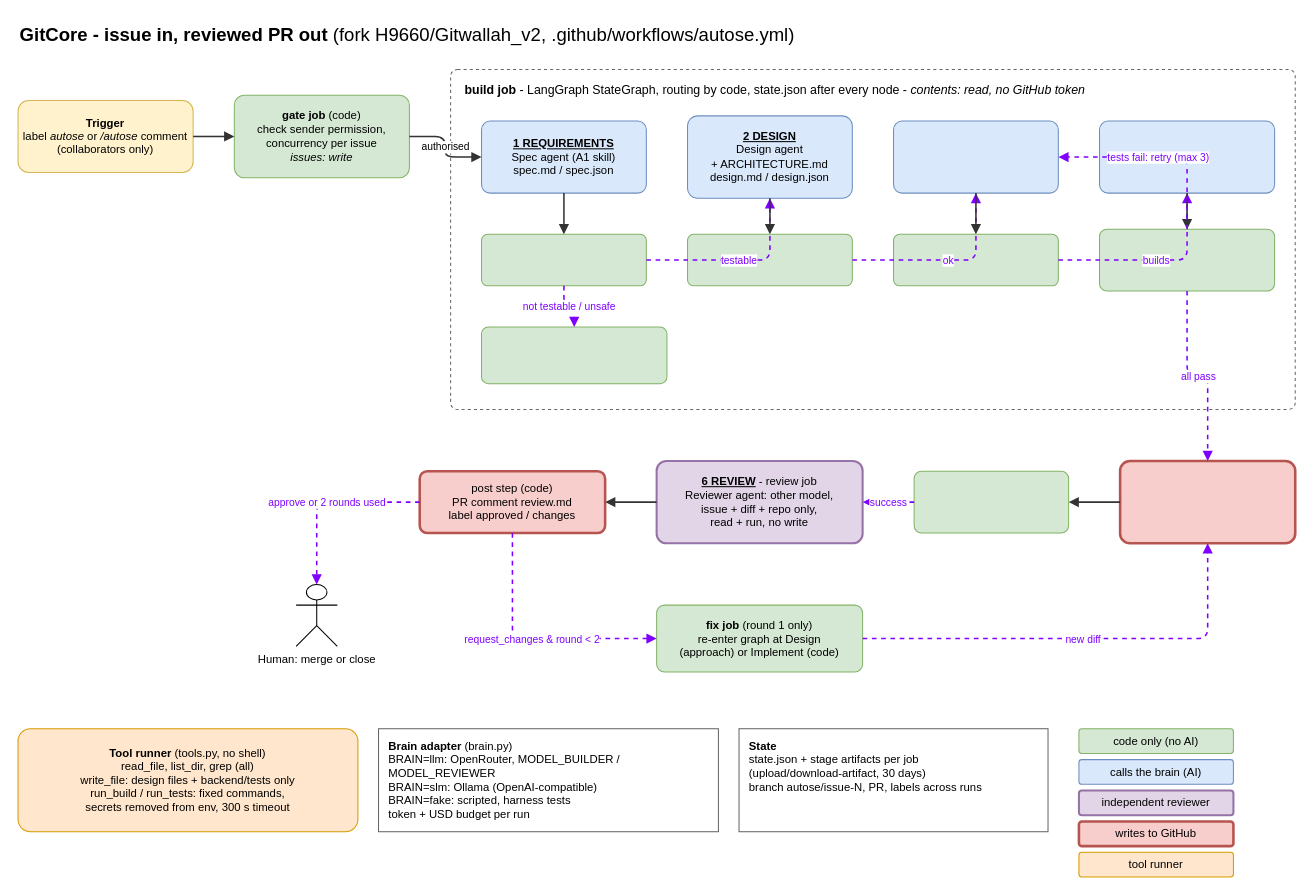
The diagram is 1314 pixels wide and 895 high, and some of its shapes have lost their labels. Each missing label, with the box of its shape:
3 IMPLEMENT Implementer agent diff.patch: (892, 120, 1058, 193)
4 TEST Test agent (1 test per AC) test_report.md: (1098, 120, 1275, 193)
5 RELEASE (code) git push autose/issue-N gh pr create / edit contents+PR write: (1118, 459, 1296, 544)
check_build (code) npm run build, allowed paths: (892, 233, 1058, 286)
check_design (code) files + functions exist?: (686, 233, 852, 286)
check_spec (code) ACs testable? safety flag?: (480, 233, 646, 286)
check_tests (code) npm test, AC coverage, no tests removed: (1098, 228, 1275, 291)
ci job reusable ci.yml build + tests: (913, 470, 1069, 533)
needs clarification / unsafe: comment questions, stop: (480, 326, 667, 384)
